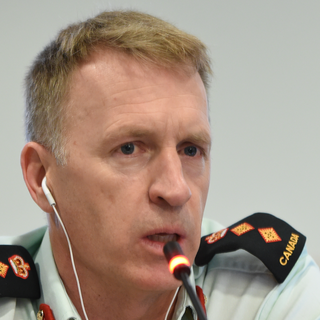eye: (100, 136, 152, 164), (172, 136, 207, 163)
